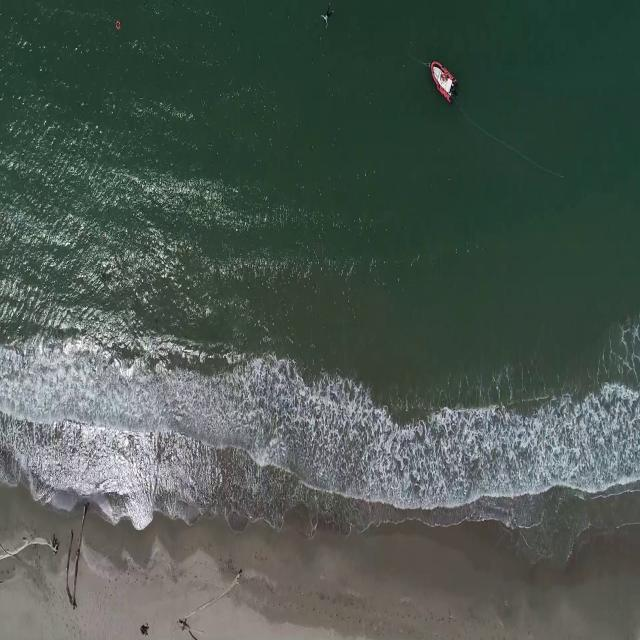boat: (430, 61, 458, 107)
life_buoy: (114, 20, 122, 32)
person: (321, 8, 334, 33)
wood: (176, 572, 243, 622), (67, 504, 88, 616), (0, 536, 63, 560), (177, 618, 226, 640)
